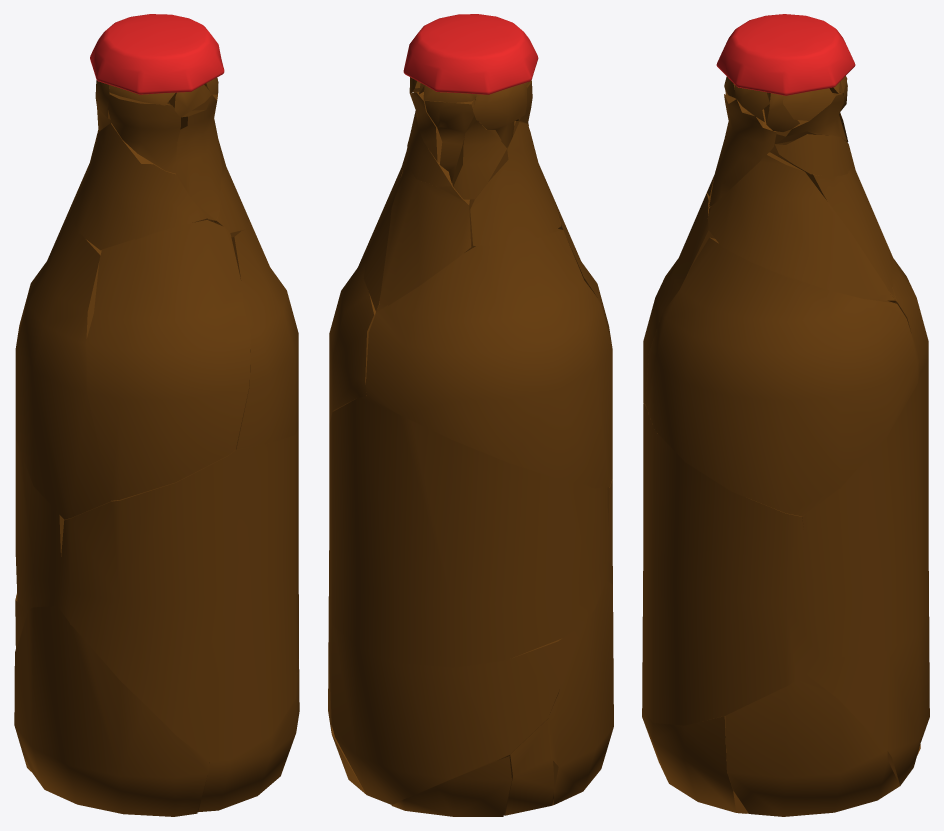
File: BottlePieces.glb
3 views of the same model, side by side, from view 1: azimuth 30°, elevation 25°; view 2: azimuth 150°, elevation 25°; view 3: azimuth 270°, elevation 25° (orthographic).
Parts seen in each view (by area): view 1: Cube.011_cell.024, Cube.011_cell.026, Cube.011_cell.019, Cube.011_cell.009, Cube.011_cell.002, Cube.011_cell.020, Vert.010, Cube.011_cell.014, Cube.011_cell.005, Cube.011_cell.006, Cube.011_cell.025, Cube.011_cell (+3 smaller); view 2: Cube.011_cell.014, Cube.011_cell.009, Cube.011_cell.022, Cube.011_cell.019, Vert.010, Cube.011_cell.004, Cube.011_cell.020, Cube.011_cell.002, Cube.011_cell.028, Cube.011_cell.017, Cube.011_cell.011, Cube.011_cell.003 (+8 smaller); view 3: Cube.011_cell.002, Cube.011_cell.024, Cube.011_cell.014, Cube.011_cell.023, Cube.011_cell, Cube.011_cell.022, Vert.010, Cube.011_cell.005, Cube.011_cell.004, Cube.011_cell.006, Cube.011_cell.026, Cube.011_cell.016 (+5 smaller).
Part boxes in pixels (left/top/right/bottom): Cube.011_cell.024: left=57, top=428, right=298, bottom=762; Cube.011_cell.026: left=85, top=220, right=250, bottom=500; Cube.011_cell.019: left=14, top=606, right=209, bottom=816; Cube.011_cell.009: left=15, top=201, right=111, bottom=519; Cube.011_cell.002: left=231, top=220, right=298, bottom=449; Cube.011_cell.020: left=70, top=123, right=207, bottom=250; Vert.010: left=90, top=14, right=224, bottom=94; Cube.011_cell.014: left=15, top=439, right=64, bottom=610; Cube.011_cell.005: left=197, top=660, right=299, bottom=812; Cube.011_cell.006: left=175, top=94, right=222, bottom=220; Cube.011_cell.025: left=107, top=93, right=180, bottom=173; Cube.011_cell: left=200, top=139, right=249, bottom=234; Cube.011_cell.014: left=329, top=396, right=608, bottom=667; Cube.011_cell.009: left=365, top=228, right=612, bottom=488; Cube.011_cell.022: left=328, top=596, right=584, bottom=804; Cube.011_cell.019: left=548, top=581, right=613, bottom=804; Vert.010: left=403, top=14, right=538, bottom=94; Cube.011_cell.004: left=375, top=150, right=472, bottom=314; Cube.011_cell.020: left=470, top=122, right=560, bottom=245; Cube.011_cell.002: left=329, top=245, right=375, bottom=423; Cube.011_cell.028: left=391, top=756, right=511, bottom=816; Cube.011_cell.017: left=484, top=718, right=554, bottom=815; Cube.011_cell.011: left=452, top=99, right=515, bottom=199; Cube.011_cell.003: left=424, top=99, right=474, bottom=182; Cube.011_cell.002: left=645, top=237, right=919, bottom=516; Cube.011_cell.024: left=642, top=403, right=818, bottom=725; Cube.011_cell.014: left=802, top=362, right=928, bottom=657; Cube.011_cell.023: left=725, top=674, right=899, bottom=816; Cube.011_cell: left=708, top=152, right=895, bottom=300; Cube.011_cell.022: left=806, top=610, right=929, bottom=785; Vert.010: left=716, top=14, right=855, bottom=95; Cube.011_cell.005: left=642, top=708, right=748, bottom=813; Cube.011_cell.004: left=791, top=162, right=896, bottom=301; Cube.011_cell.006: left=709, top=94, right=776, bottom=206; Cube.011_cell.026: left=643, top=193, right=715, bottom=403; Cube.011_cell.016: left=772, top=134, right=853, bottom=177.
Bounding box in the file's own units: 0.1512 × 0.4252 × 0.1512.
